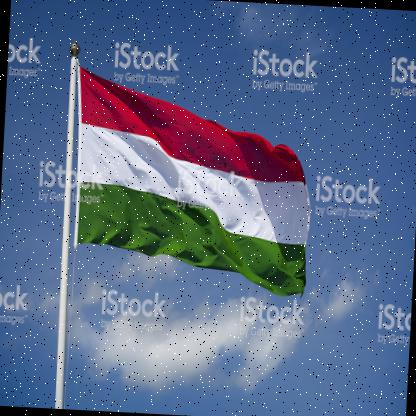hu: (68, 64, 319, 303)
